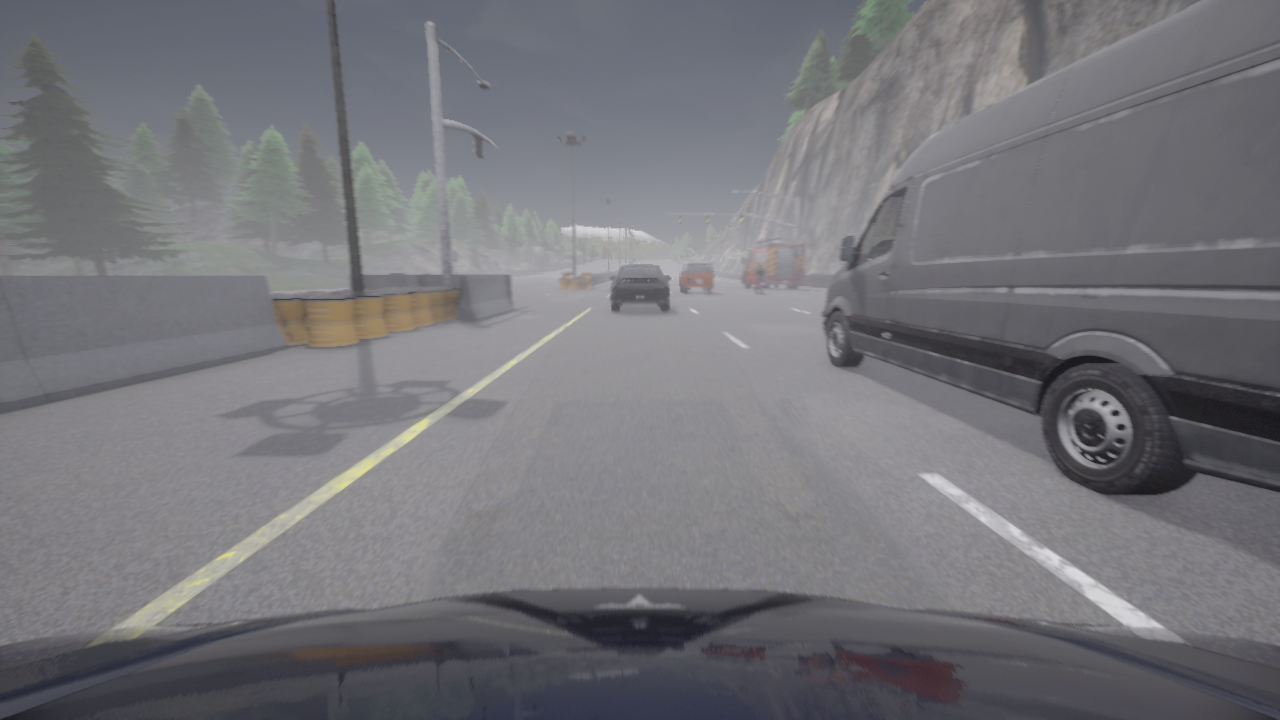cyclist: (822, 0, 1279, 495), (0, 588, 1279, 719), (741, 237, 805, 289), (610, 264, 670, 311), (679, 261, 713, 293), (756, 282, 763, 294)
